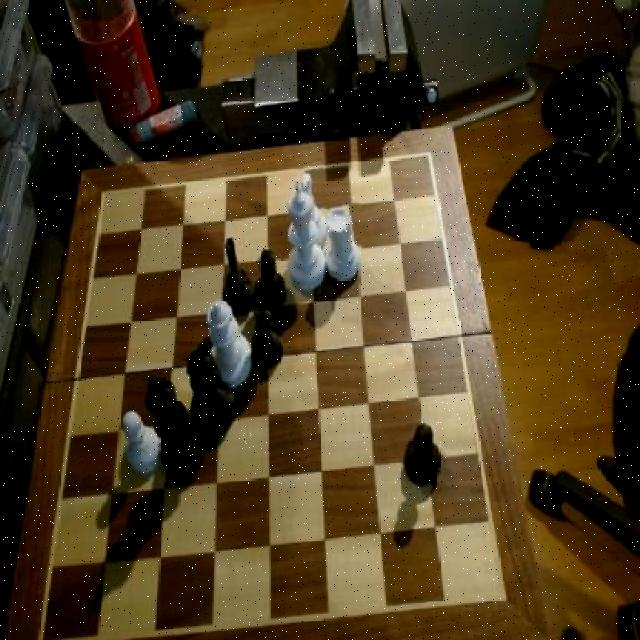black-bishop: (143, 372, 208, 483)
black-king: (218, 237, 254, 315), (300, 166, 328, 248)
black-knight: (400, 418, 445, 492), (251, 305, 286, 376), (256, 249, 290, 317)
black-pawn: (188, 352, 237, 434)
white-bishop: (285, 178, 327, 292)
white-knight: (120, 411, 165, 481)
white-pawn: (208, 300, 255, 388)
white-queen: (323, 205, 363, 289)
